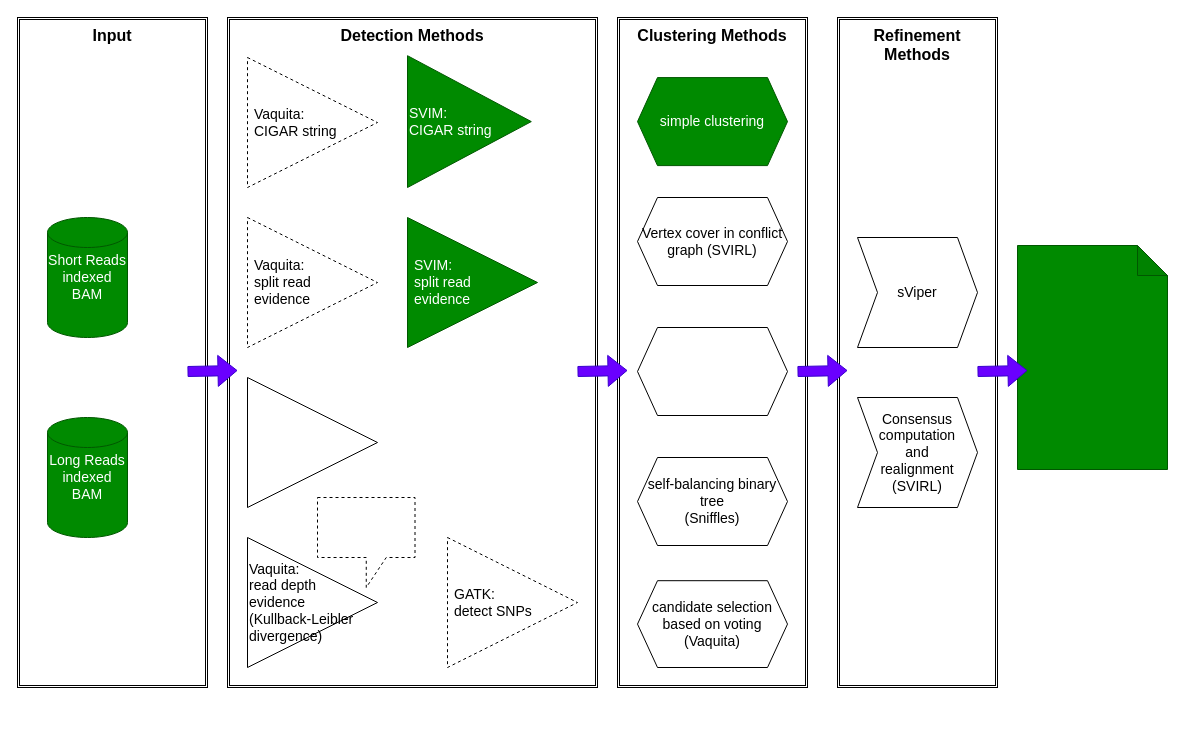
Some shapes in this 1185 by 755 pixel diagram are drawn without their labels. Here are the shapes that lost their labels. From the top down, the centre of each, then its label:
(712,371): hierarchical clustering (SVIM)
(1092,357): VCF
(312,442): Vaquita: read pair evidence
(365,542): Maybe move this Method behind the clustering
